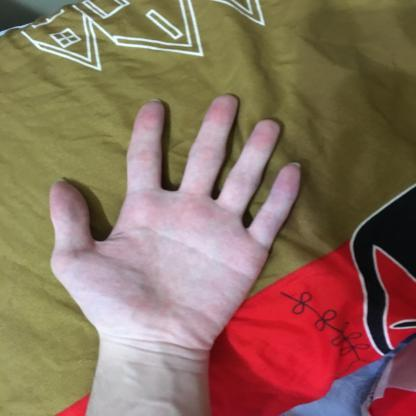bare_hand: (35, 82, 311, 375)
